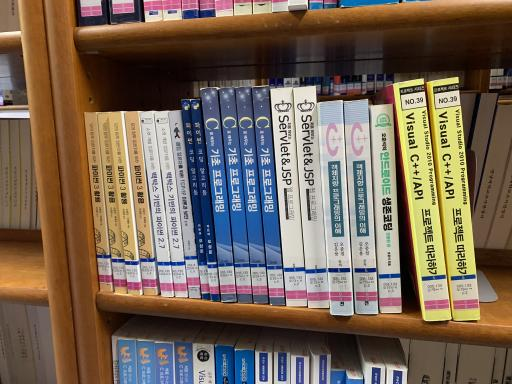book-spine: (393, 79, 452, 321), (430, 77, 480, 322), (293, 86, 330, 308), (271, 88, 307, 307), (201, 87, 236, 302), (220, 87, 253, 303), (320, 100, 353, 315), (344, 99, 377, 314), (253, 85, 285, 306), (236, 86, 268, 304), (372, 104, 402, 313), (155, 111, 188, 298), (140, 111, 173, 297), (190, 100, 220, 302), (109, 112, 141, 296), (169, 110, 200, 298), (182, 100, 211, 300), (125, 112, 156, 296), (98, 112, 128, 293), (84, 112, 113, 292)
